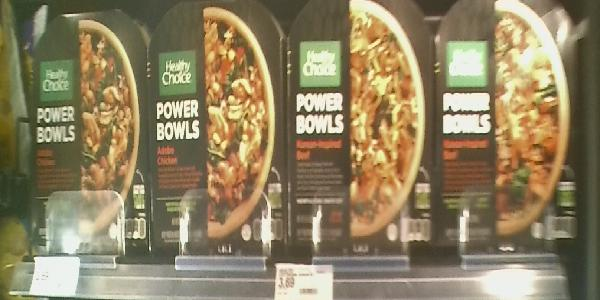pizza1: (289, 1, 436, 257), (436, 1, 581, 254), (151, 2, 288, 253), (26, 7, 149, 251)
